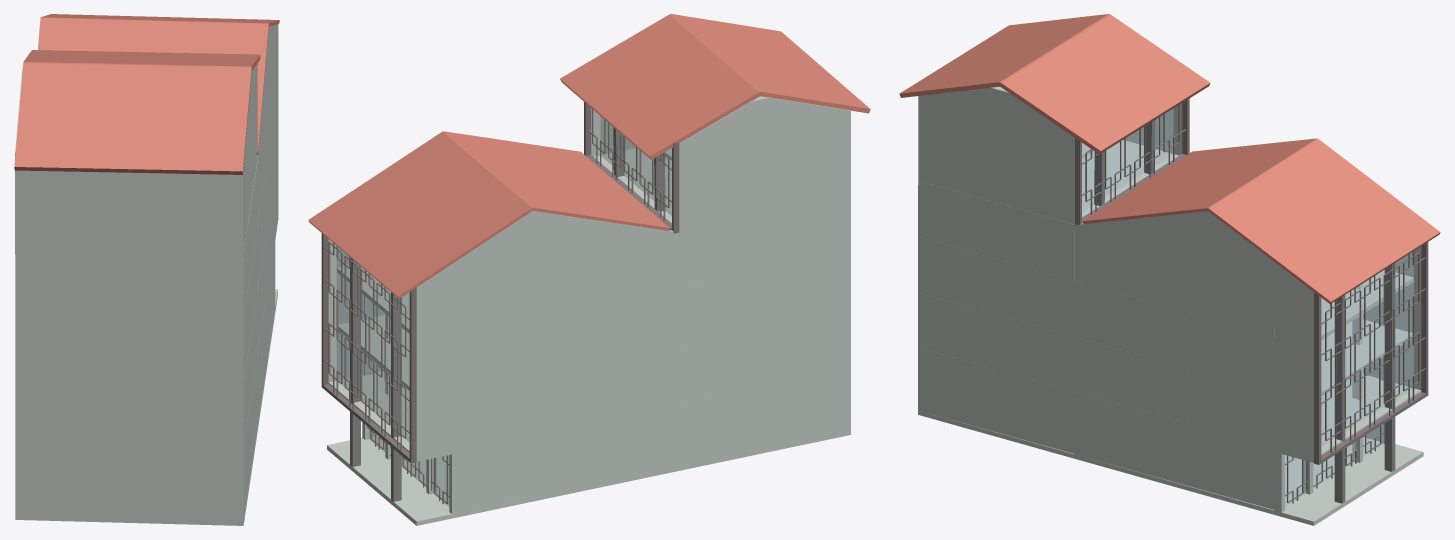
The picture shows the model from 3 angles, left to right: view 1: azimuth 30°, elevation 25°; view 2: azimuth 150°, elevation 25°; view 3: azimuth 270°, elevation 25°; orthographic projection. The views are drawn at different scales.
Visible parts, largest first — view 1: Object.025, Object.011, Object.010, Object.005, Object.003, Object.026, Object.012, Object.023, Object.024, Object.022, Object.004, Object.001 (+1 smaller); view 2: Object, Object.027, Object.005, Object.011, Object.010, Object.012, Object.032, Object.015, Object.062, Object.022, Object.023, Object.004 (+9 smaller); view 3: Object.003, Object.026, Object.005, Object.011, Object.010, Object.015, Object.012, Object.001, Object.022, Object.023, Object.024, Object.062 (+9 smaller).
Part boxes in pixels (<box>): Object.025: <box>15,254,243,520</box>; Object.011: <box>14,50,260,174</box>; Object.010: <box>15,65,256,260</box>; Object.005: <box>38,14,279,155</box>; Object.003: <box>257,25,274,426</box>; Object.026: <box>243,164,257,516</box>; Object.012: <box>15,289,277,525</box>; Object.023: <box>15,160,277,389</box>; Object.024: <box>15,95,277,325</box>; Object.022: <box>15,218,277,453</box>; Object.004: <box>15,249,243,260</box>; Object.001: <box>275,24,277,233</box>; Object: <box>460,211,679,512</box>; Object.027: <box>679,201,846,466</box>; Object.005: <box>308,131,670,298</box>; Object.011: <box>560,14,870,159</box>; Object.010: <box>591,97,850,236</box>; Object.012: <box>327,430,850,525</box>; Object.032: <box>416,264,451,457</box>; Object.015: <box>336,248,409,442</box>; Object.062: <box>321,233,416,463</box>; Object.022: <box>328,366,850,461</box>; Object.023: <box>338,310,850,403</box>; Object.004: <box>594,148,850,236</box>; Object.003: <box>1074,211,1274,509</box>; Object.026: <box>921,182,1074,453</box>; Object.005: <box>1082,138,1440,303</box>; Object.011: <box>899,14,1210,154</box>; Object.010: <box>918,87,1182,224</box>; Object.015: <box>1321,252,1413,446</box>; Object.012: <box>918,410,1423,525</box>; Object.001: <box>1281,267,1313,458</box>; Object.022: <box>918,348,1421,462</box>; Object.023: <box>918,293,1412,404</box>; Object.024: <box>918,237,1413,349</box>; Object.062: <box>1314,242,1428,464</box>.
Bounding box in the file's own units: 2.46 × 2.15 × 2.96.
